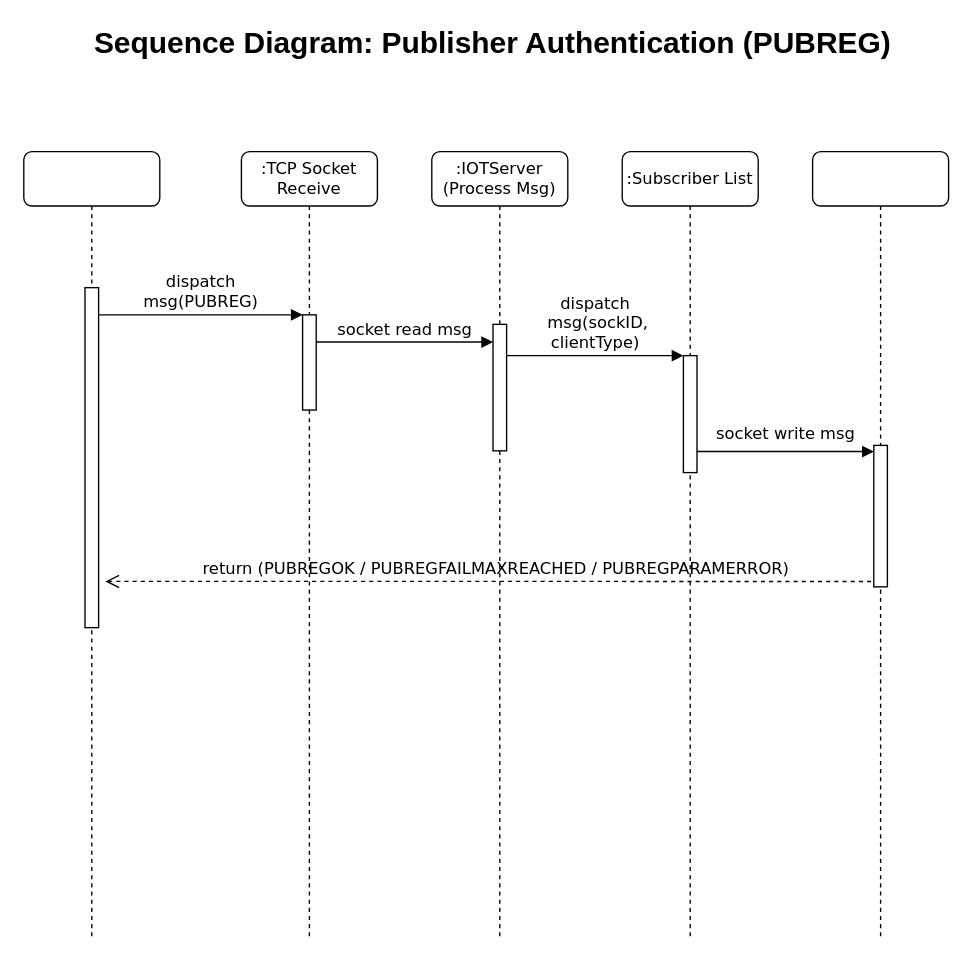
Image size: 972x964. Some labels were removed from this diagram. Each missing label, with the box of its shape:
:IOTClient (Publisher): (22, 150, 160, 940)
:TCP Socket Send: (811, 150, 949, 940)
